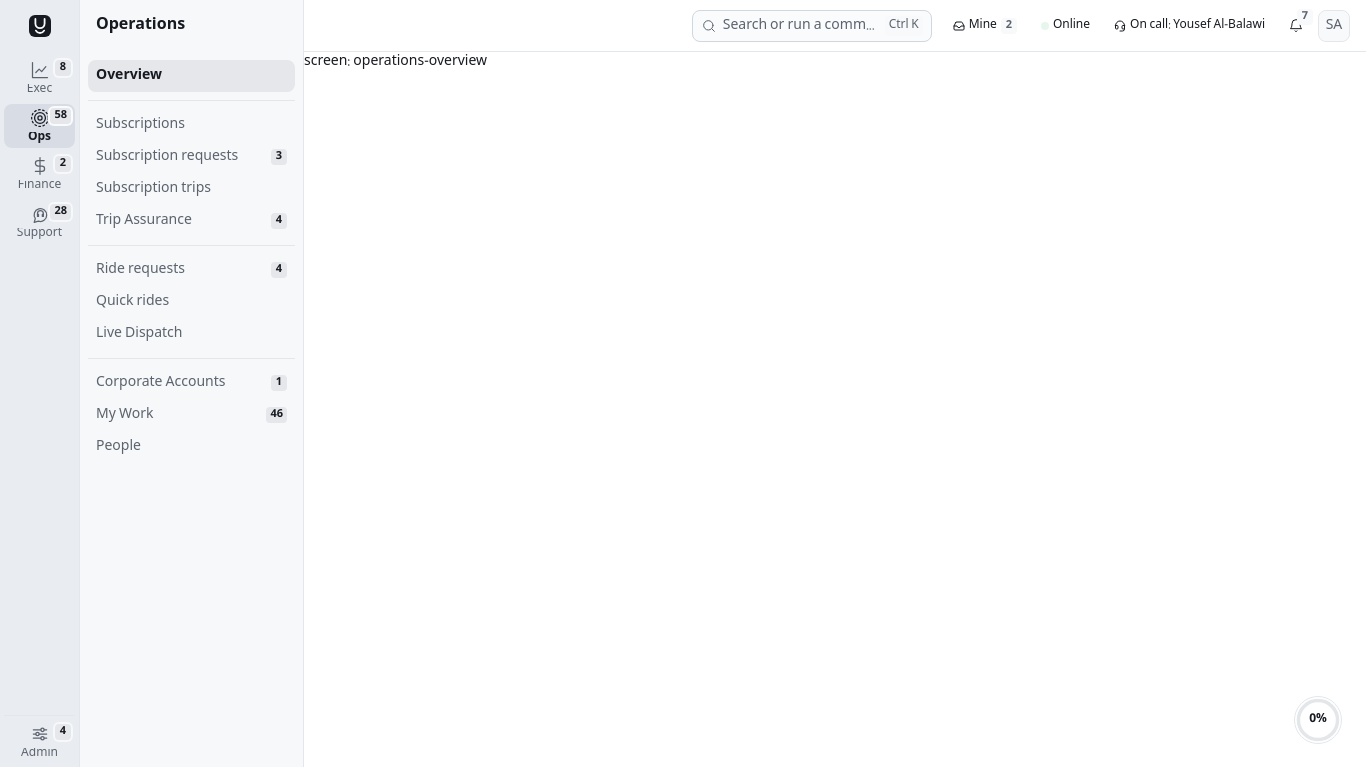
a search that fails says so, and does not report "no matches" › renders the failure with a retry, and never the no-match sentence
Click the button "Search or run a command Ctrl K".
click(812, 26)  # box [692, 10, 932, 42]
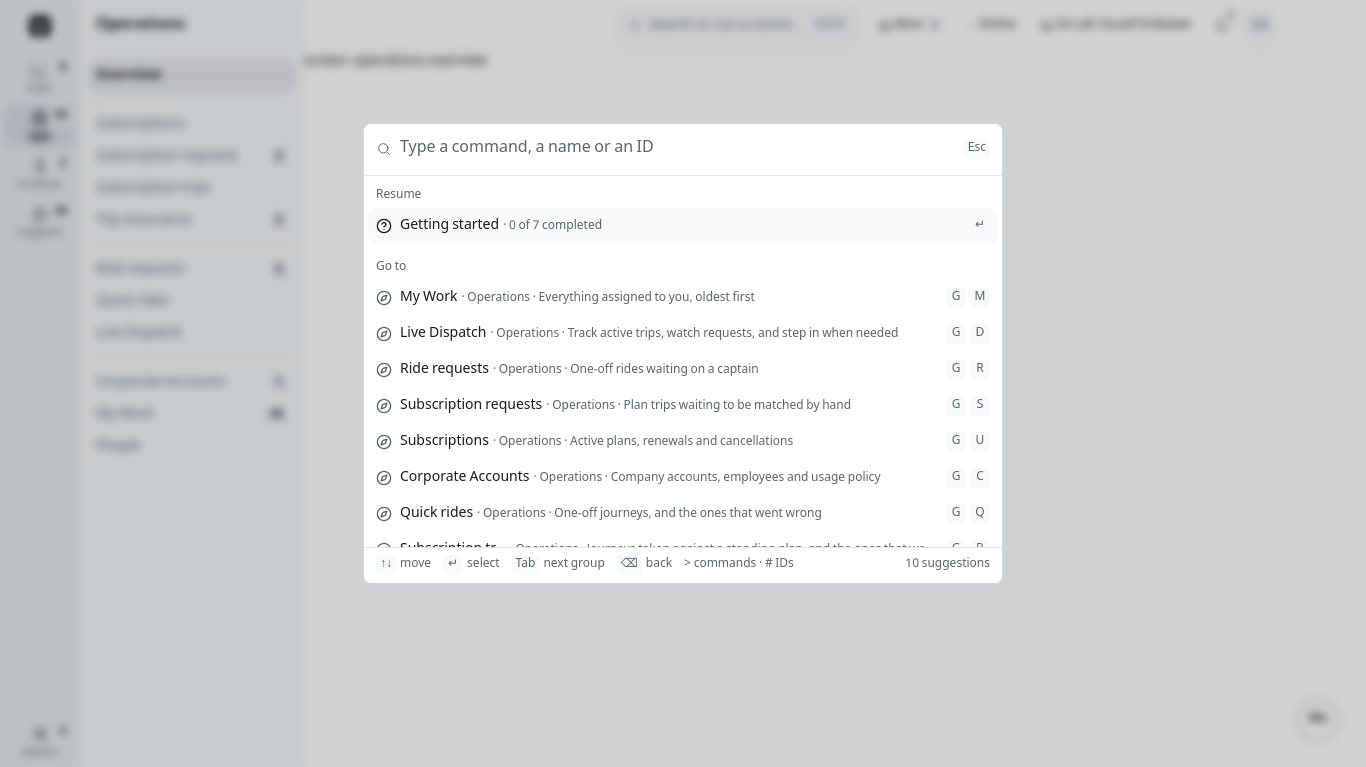
Type "Nora" into the search field named "Search".
click(678, 149); type("Nora")  # box [400, 137, 956, 161]
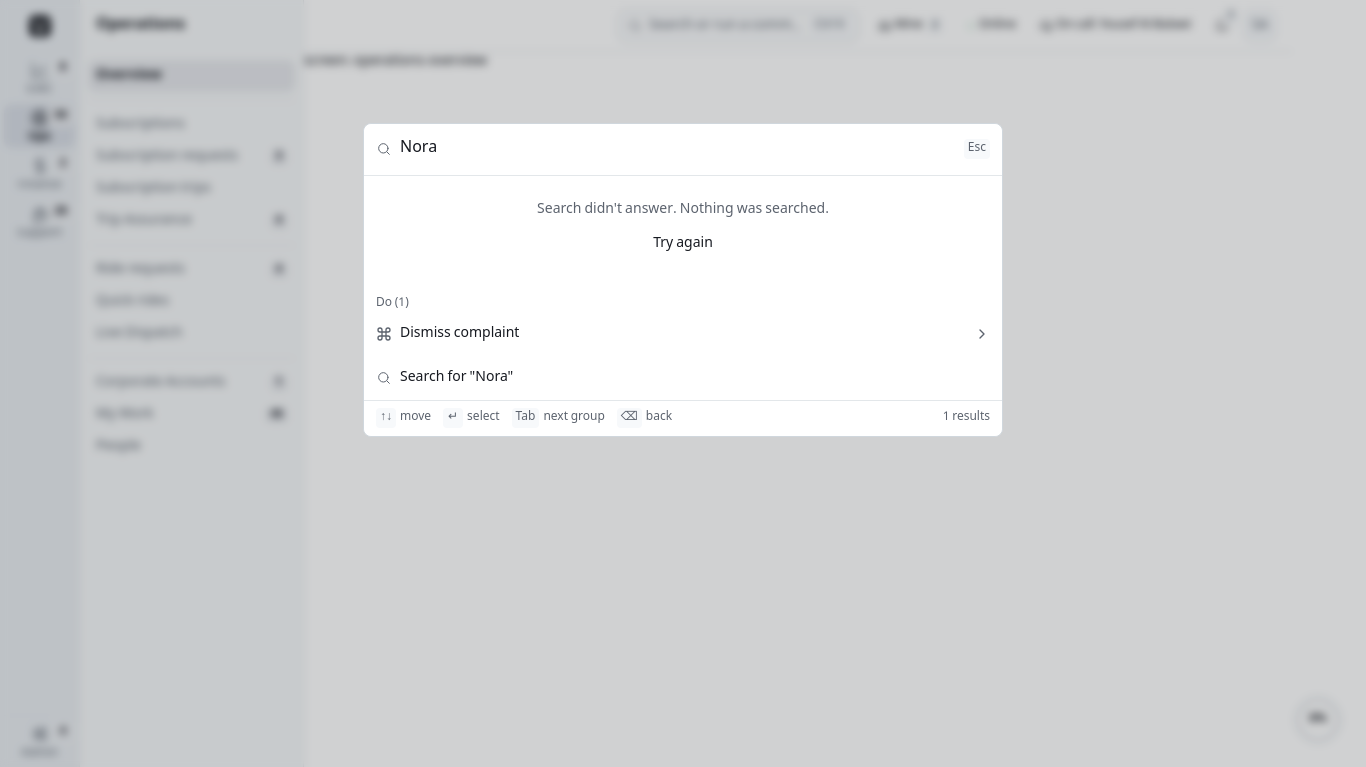
Expected: the text "Search didn't answer. Nothing was searched." is shown, [537, 200, 829, 220]
Expected: the button "Try again" is shown, [642, 228, 724, 260]
